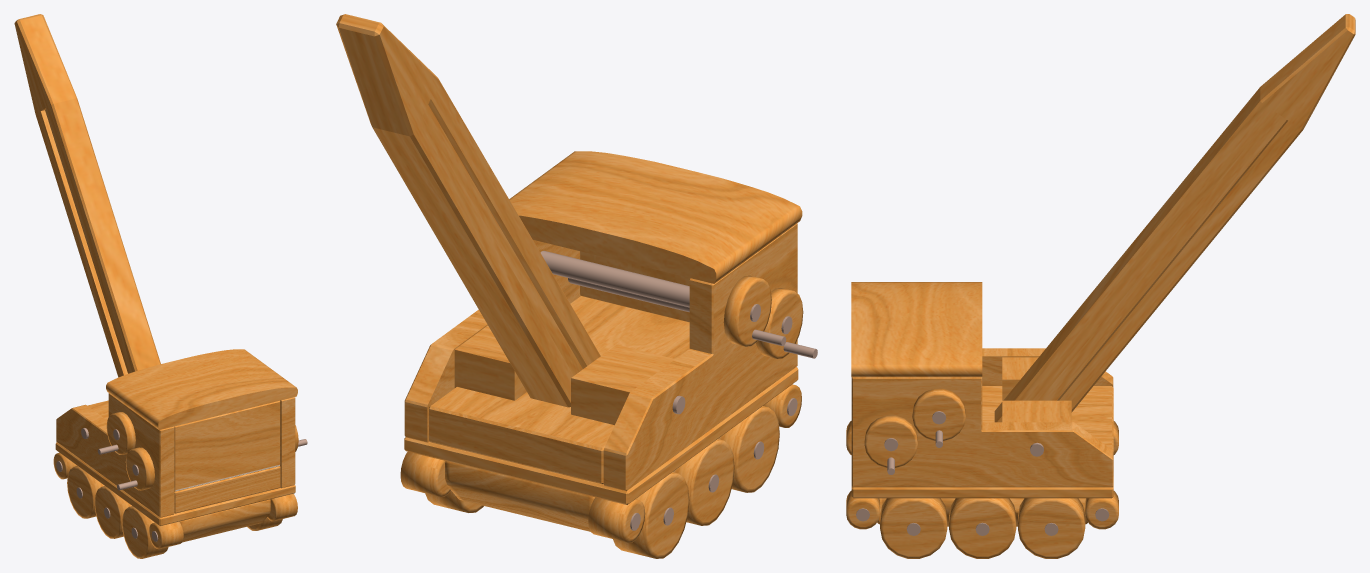
The model's file is CraneWithoutHook.fbx.
3 renders of one model, left to right at view 1: azimuth 30°, elevation 25°; view 2: azimuth 150°, elevation 25°; view 3: azimuth 270°, elevation 25°, orthographic. The views are drawn at different scales.
Parts seen in each view (by area): view 1: Crane, Arm, Hook; view 2: Crane, Arm, Hook; view 3: Crane, Arm, Hook.
Part boxes in pixels (left/top/right/bottom): Crane: left=53, top=349, right=298, bottom=558; Arm: left=14, top=14, right=160, bottom=377; Hook: left=56, top=428, right=307, bottom=541; Crane: left=400, top=151, right=803, bottom=558; Arm: left=336, top=14, right=600, bottom=407; Hook: left=540, top=250, right=817, bottom=530; Crane: left=846, top=282, right=1118, bottom=558; Arm: left=994, top=14, right=1355, bottom=422; Hook: left=856, top=411, right=1109, bottom=535.
Bounding box in the file's own units: 11.23 × 22.69 × 21.09.
